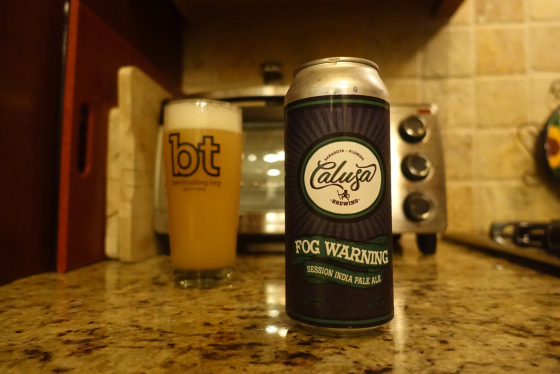can: (281, 55, 397, 338)
